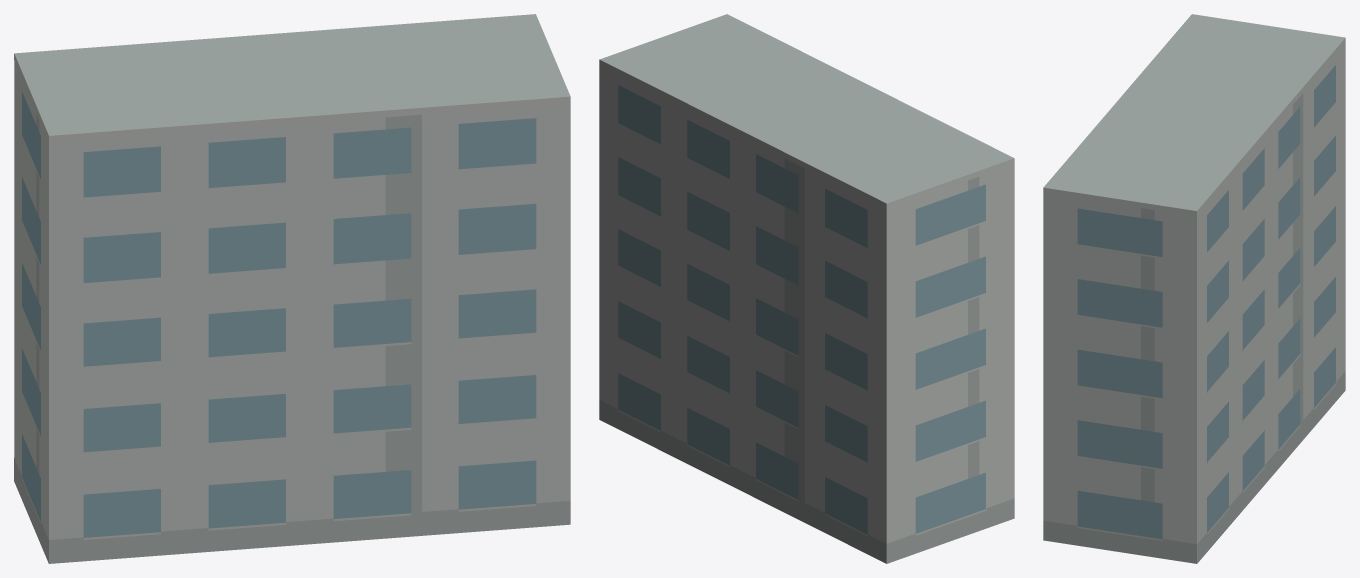
The model's file is residential-a56712a8-e80d-4cd5-9fc0-381c4e7c8f93.glb.
3 views of the same model, side by side, from view 1: azimuth 30°, elevation 25°; view 2: azimuth 150°, elevation 25°; view 3: azimuth 270°, elevation 25° (orthographic). The views are drawn at different scales.
Visible parts, largest first — view 1: residential-a56712a8-e80d-4cd5-9fc0-381c4e7c8f93.tmp; view 2: residential-a56712a8-e80d-4cd5-9fc0-381c4e7c8f93.tmp; view 3: residential-a56712a8-e80d-4cd5-9fc0-381c4e7c8f93.tmp.
Part boxes in pixels (left/top/right/bottom): residential-a56712a8-e80d-4cd5-9fc0-381c4e7c8f93.tmp: left=14, top=14, right=570, bottom=563; residential-a56712a8-e80d-4cd5-9fc0-381c4e7c8f93.tmp: left=599, top=14, right=1014, bottom=563; residential-a56712a8-e80d-4cd5-9fc0-381c4e7c8f93.tmp: left=1043, top=14, right=1345, bottom=563.
Size of the model in its own units: 18.28 by 15.25 by 11.86.
